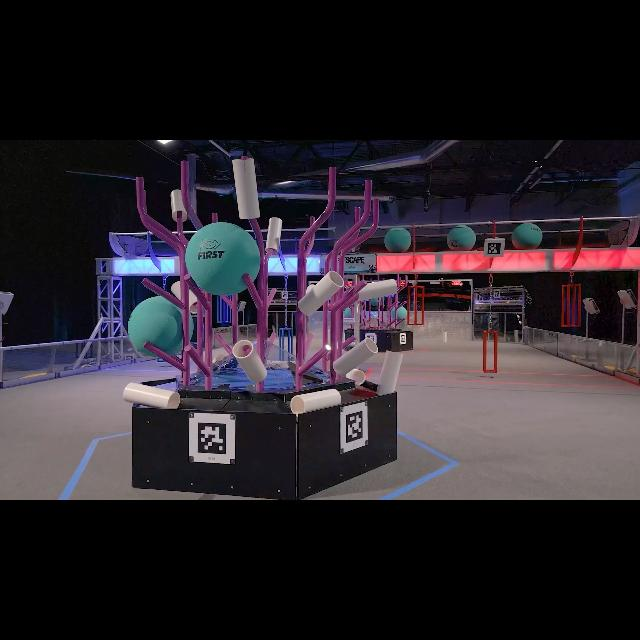ALGAE: (184, 221, 260, 295), (127, 295, 193, 357), (512, 222, 542, 250), (446, 225, 476, 251), (384, 228, 412, 252), (389, 305, 406, 319)
CORAL: (296, 270, 344, 316), (332, 336, 378, 376), (232, 156, 260, 220), (232, 339, 266, 383), (124, 382, 180, 408), (290, 387, 342, 413), (376, 350, 402, 394), (357, 278, 397, 300), (266, 216, 282, 254), (171, 190, 187, 222)
